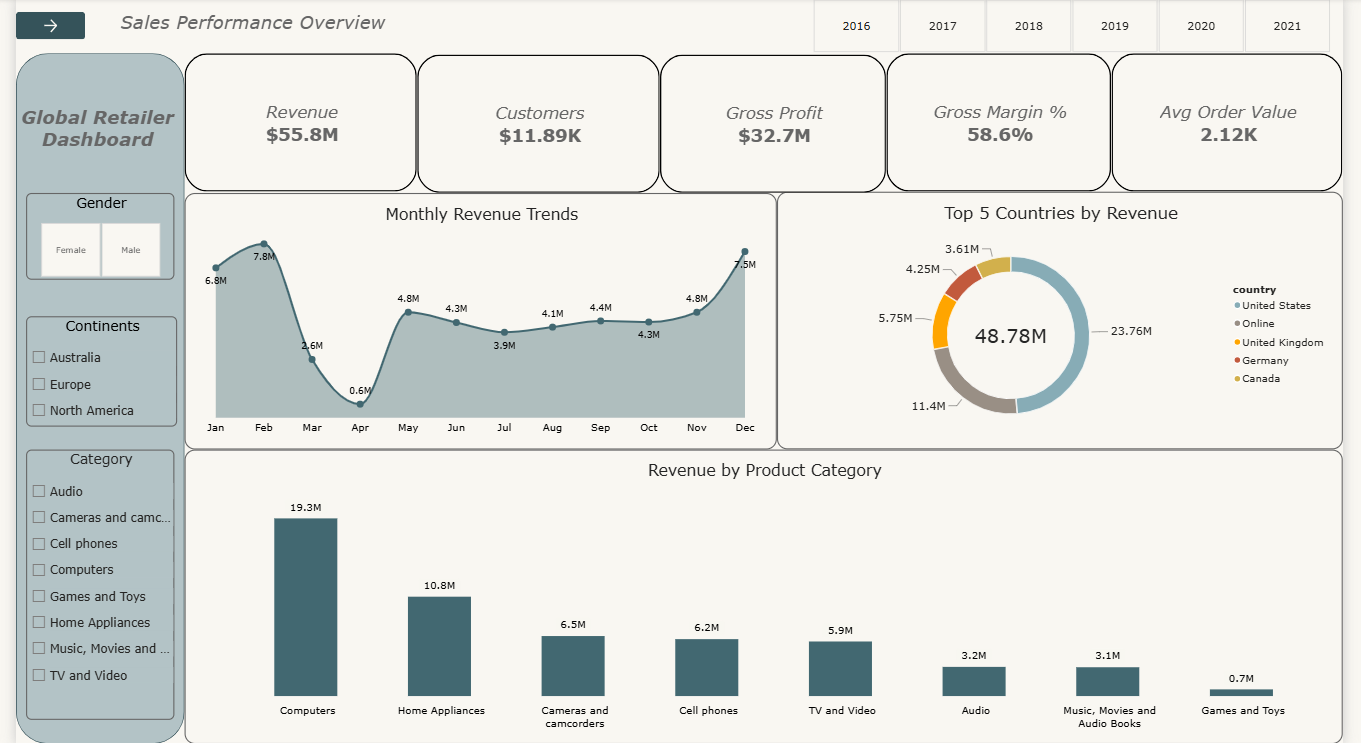

This screenshot's page, from the dashboard's own definition file:
{"tool":"powerbi","page":{"name":"Overview","canvas":[1920,1080],"ordinal":0},"visuals":[{"type":"shape","box":[0,80.1,243.9,999.2],"z":0},{"type":"areaChart","title":"Monthly Revenue Trends ","fields":{"Category":["Calendar.Month"],"Y":["table.Revenue"]},"box":[243.9,282.1,857.2,371.3],"z":1000},{"type":"lineStackedColumnComboChart","title":"Revenue by Product Category","fields":{"Category":["public products.category"],"Y":["table.Revenue"]},"box":[243.9,653.4,1676.3,425.9],"z":2000},{"type":"textbox","box":[100.1,0,486,80.1],"z":3000},{"type":"slicer","fields":{"Values":["Calendar.Year"]},"box":[1133.9,0,786.3,80.1],"z":4000},{"type":"donutChart","title":"Top 5 Countries by Revenue","fields":{"Category":["public stores.country"],"Y":["table.Revenue"]},"box":[1101.1,280.3,819,373.1],"z":5000},{"type":"actionButton","box":[0,20,100,40],"z":6000},{"type":"cardVisual","title":"Total Revenue","fields":{"Data":["table.Revenue"]},"box":[243.9,80.1,336.7,200.2],"z":7000},{"type":"cardVisual","title":"Total Revenue","fields":{"Data":["table.Gross Profit"]},"box":[931.8,81.9,327.6,200.2],"z":8000},{"type":"cardVisual","title":"Total Revenue","fields":{"Data":["table.Gross Margin %"]},"box":[1259.5,80.1,325.8,200.2],"z":9000},{"type":"cardVisual","title":"Total Revenue","fields":{"Data":["table.Customers"]},"box":[580.6,81.9,351.3,200.2],"z":10000},{"type":"cardVisual","title":"Total Revenue","fields":{"Data":["table.Avg Order Value"]},"box":[1585.3,80.1,334.9,200.2],"z":11000},{"type":"slicer","title":"Gender","fields":{"Values":["public customers.Gender"]},"box":[14.6,282.1,214.8,125.6],"z":12000},{"type":"slicer","title":"Continents","fields":{"Values":["public customers.continent"]},"box":[14.6,460.5,218.4,160.2],"z":13000},{"type":"textbox","box":[3.6,154.7,229.3,78.3],"z":14000},{"type":"slicer","title":"Category","fields":{"Values":["public products.category"]},"box":[14.6,653.4,214.8,391.3],"z":15000}]}

Visuals, with their boxes on the page's 1920x1080 design canvas (x1, y1, x2, y2). These are canvas units, not pixel positions in the 1361x743 screenshot, which may show the page scaled, cropped or inside an application window:
shape: [left=0, top=80, right=244, bottom=1079]
"Monthly Revenue Trends " areaChart: [left=244, top=282, right=1101, bottom=653]
"Revenue by Product Category" lineStackedColumnComboChart: [left=244, top=653, right=1920, bottom=1079]
textbox: [left=100, top=0, right=586, bottom=80]
slicer - Calendar.Year: [left=1134, top=0, right=1920, bottom=80]
"Top 5 Countries by Revenue" donutChart: [left=1101, top=280, right=1920, bottom=653]
actionButton: [left=0, top=20, right=100, bottom=60]
"Total Revenue" cardVisual: [left=244, top=80, right=581, bottom=280]
"Total Revenue" cardVisual: [left=932, top=82, right=1259, bottom=282]
"Total Revenue" cardVisual: [left=1260, top=80, right=1585, bottom=280]
"Total Revenue" cardVisual: [left=581, top=82, right=932, bottom=282]
"Total Revenue" cardVisual: [left=1585, top=80, right=1920, bottom=280]
"Gender" slicer: [left=15, top=282, right=229, bottom=408]
"Continents" slicer: [left=15, top=460, right=233, bottom=621]
textbox: [left=4, top=155, right=233, bottom=233]
"Category" slicer: [left=15, top=653, right=229, bottom=1045]
